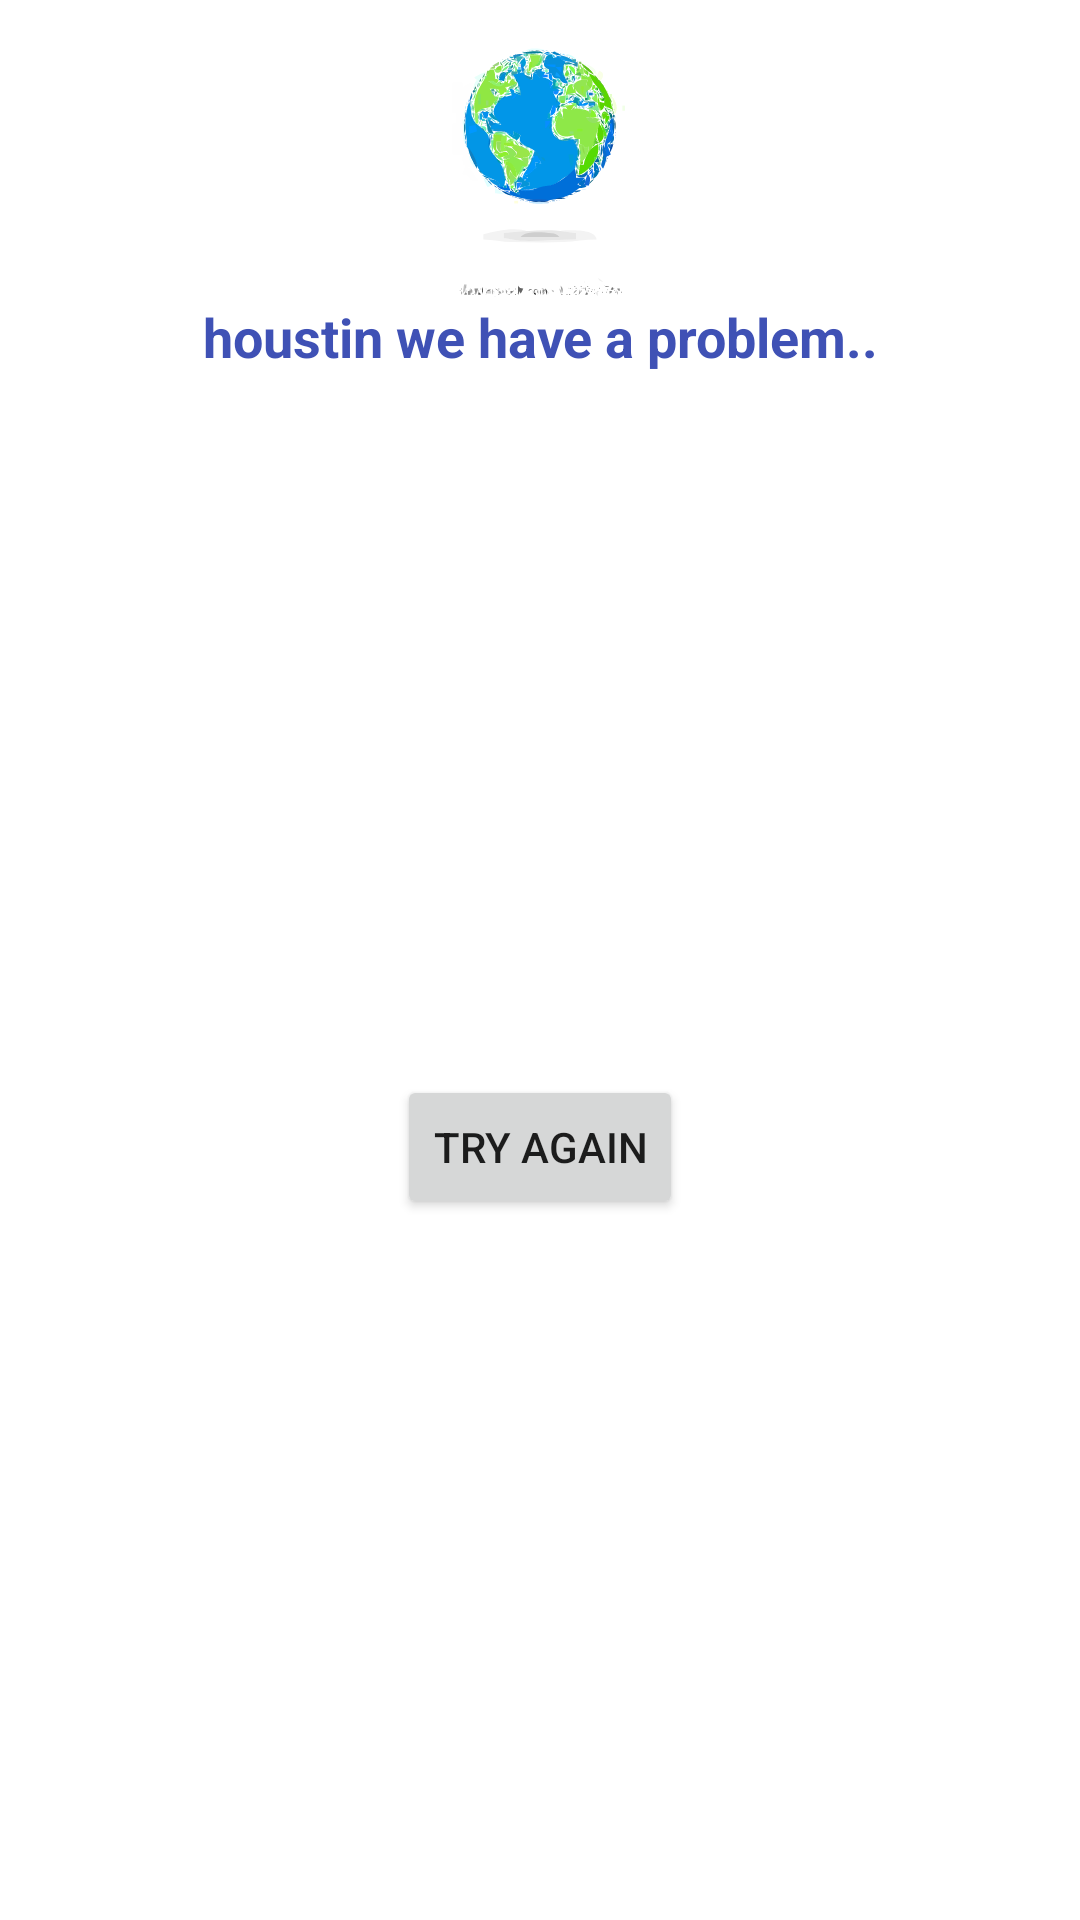

Named icons in this screenshot (1080px x 1920px) and their centers, (x,y):
world: (541,172)
